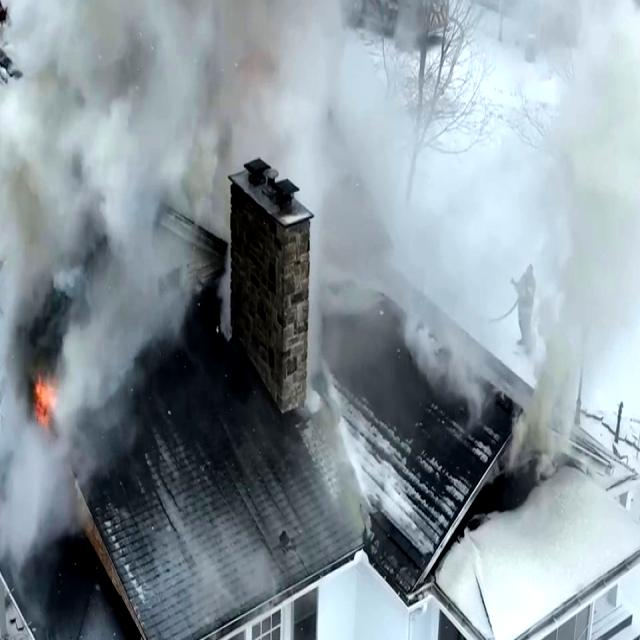smoke: (19, 0, 308, 152)
